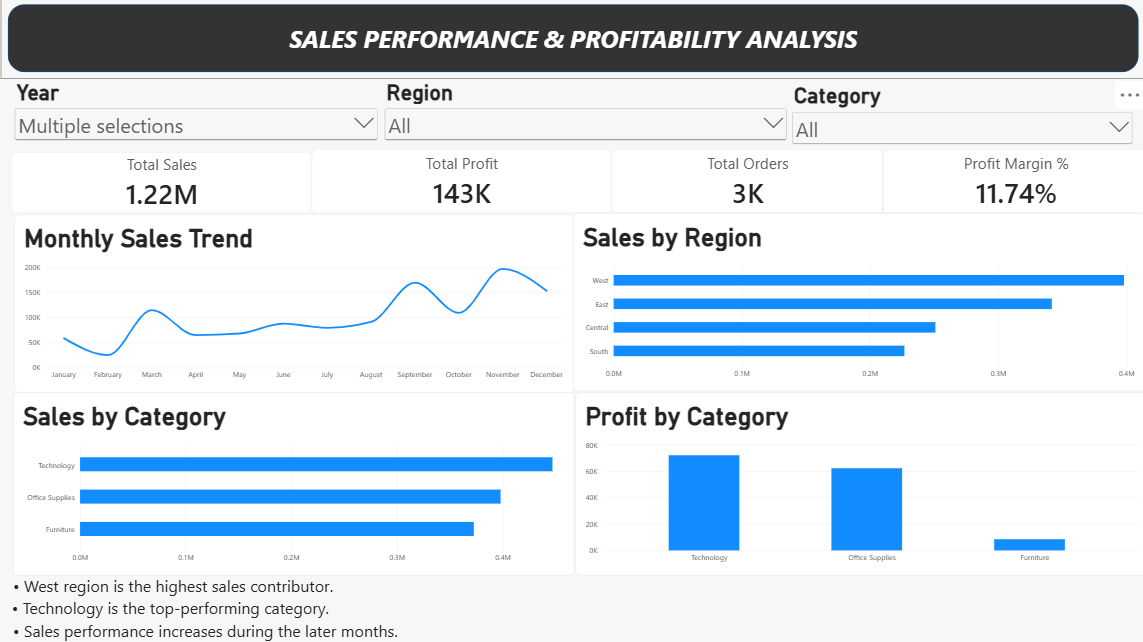

Layout of this report page (visuals, bound fields, positions):
{"tool":"powerbi","page":{"name":"Overview","canvas":[1920,1080],"ordinal":0},"visuals":[{"type":"shape","box":[3.6,0,1909.2,137.5],"z":0},{"type":"slicer","fields":{"Values":["Superstore_Sales_Cleaned.Order Date.Variation.Date Hierarchy.Year"]},"box":[23.8,138.5,614.6,114.7],"z":1000},{"type":"slicer","fields":{"Values":["Superstore_Sales_Cleaned.Region"]},"box":[638.8,137.5,680.4,114],"z":2000},{"type":"slicer","fields":{"Values":["Superstore_Sales_Cleaned.Category"]},"box":[1319.2,143,577.3,114],"z":3000},{"type":"cardVisual","fields":{"Data":["Superstore_Sales_Cleaned.Total Sales"]},"box":[23.8,257.5,499.9,101.7],"z":4000},{"type":"cardVisual","fields":{"Data":["Superstore_Sales_Cleaned.Total Profit"]},"box":[523.7,253.2,499.9,106],"z":5000},{"type":"cardVisual","fields":{"Data":["Superstore_Sales_Cleaned.Total Orders"]},"box":[1023.6,253.2,452.3,106],"z":6000},{"type":"cardVisual","fields":{"Data":["Superstore_Sales_Cleaned.Profit Margin %"]},"box":[1475.9,253.2,443.6,106],"z":7000},{"type":"lineChart","title":"Monthly Sales Trend","fields":{"Category":["Superstore_Sales_Cleaned.Order Date.Variation.Date Hierarchy.Month"],"Y":["Sum(Superstore_Sales_Cleaned.Sales)"]},"box":[27.1,362.5,935.6,296.8],"z":8000},{"type":"clusteredBarChart","title":"Sales by Region","fields":{"Category":["Superstore_Sales_Cleaned.Region"],"Y":["Sum(Superstore_Sales_Cleaned.Sales)"]},"box":[959.1,360.1,953.7,296.8],"z":9000},{"type":"clusteredBarChart","title":"Sales by Category","fields":{"Category":["Superstore_Sales_Cleaned.Category"],"Y":["Sum(Superstore_Sales_Cleaned.Sales)"]},"box":[25,657.4,935.6,305.8],"z":10000},{"type":"columnChart","title":"Profit by Category","fields":{"Category":["Superstore_Sales_Cleaned.Category"],"Y":["Sum(Superstore_Sales_Cleaned.Profit)"]},"box":[961.8,657.4,959.1,305.8],"z":11000},{"type":"textbox","box":[25.3,962.7,1887.5,38],"z":12000},{"type":"textbox","box":[23.5,1000.7,1873,36.2],"z":13000},{"type":"textbox","box":[25.3,1036.9,1887.5,43.4],"z":14000}]}

Visuals, with their boxes in screenshot pixels (x1, y1, x2, y2), scaled from the page's 1920x1080 canvas onto the 1143x642 screenshot:
shape: left=2, top=0, right=1139, bottom=82
slicer - Superstore_Sales_Cleaned.Order Date.Variation.Date Hierarchy.Year: left=14, top=82, right=380, bottom=151
slicer - Superstore_Sales_Cleaned.Region: left=380, top=82, right=785, bottom=150
slicer - Superstore_Sales_Cleaned.Category: left=785, top=85, right=1129, bottom=153
cardVisual - Superstore_Sales_Cleaned.Total Sales: left=14, top=153, right=312, bottom=214
cardVisual - Superstore_Sales_Cleaned.Total Profit: left=312, top=151, right=609, bottom=214
cardVisual - Superstore_Sales_Cleaned.Total Orders: left=609, top=151, right=879, bottom=214
cardVisual - Superstore_Sales_Cleaned.Profit Margin %: left=879, top=151, right=1142, bottom=214
"Monthly Sales Trend" lineChart: left=16, top=215, right=573, bottom=392
"Sales by Region" clusteredBarChart: left=571, top=214, right=1139, bottom=390
"Sales by Category" clusteredBarChart: left=15, top=391, right=572, bottom=573
"Profit by Category" columnChart: left=573, top=391, right=1142, bottom=573
textbox: left=15, top=572, right=1139, bottom=595
textbox: left=14, top=595, right=1129, bottom=616
textbox: left=15, top=616, right=1139, bottom=641
